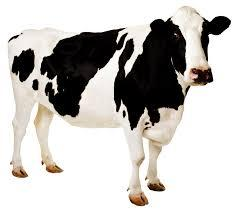cow: (7, 6, 231, 206)
